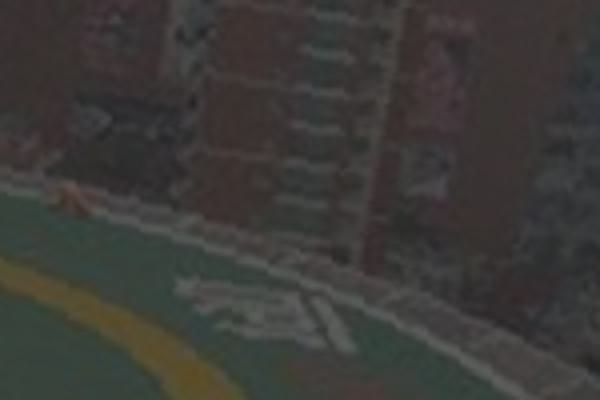Apron: (1, 251, 253, 400)
